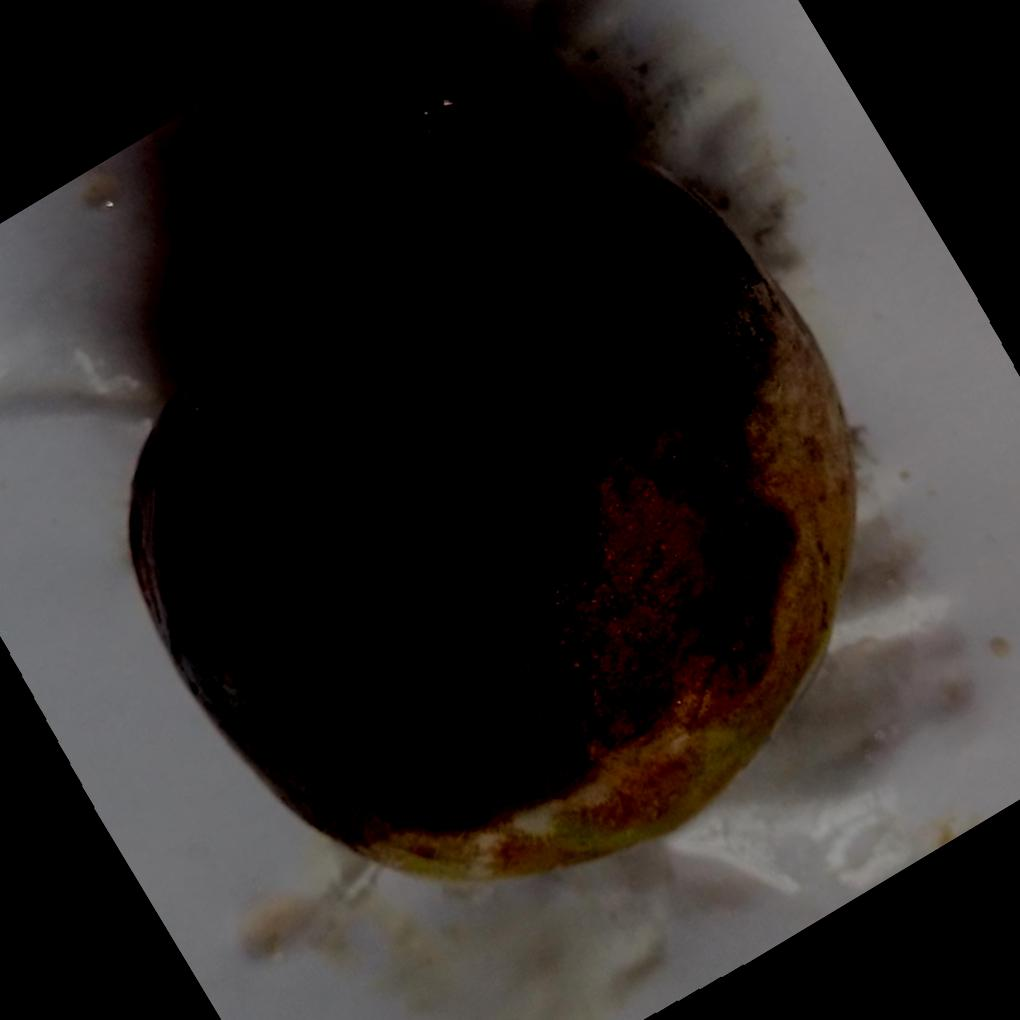FreshOrange: (129, 118, 861, 884)
